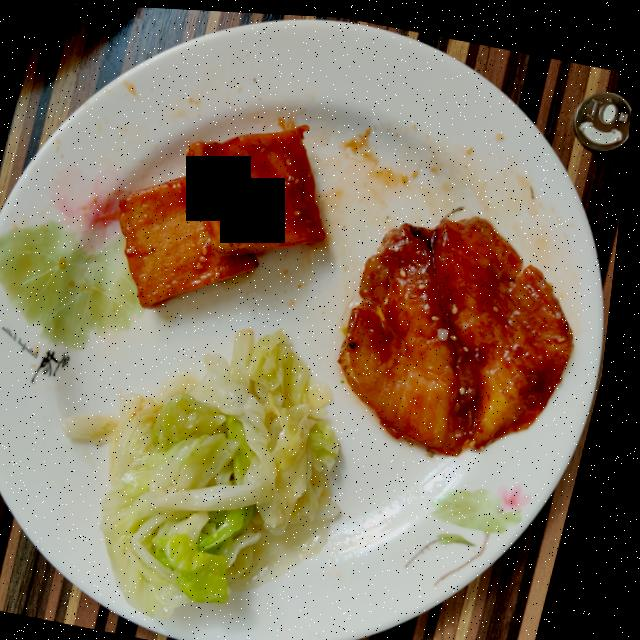Kabayaki sea bream fillet: (347, 211, 580, 450)
cabbage: (72, 326, 351, 615)
coin: (576, 85, 633, 145)
creamy tofu: (124, 122, 331, 306)
